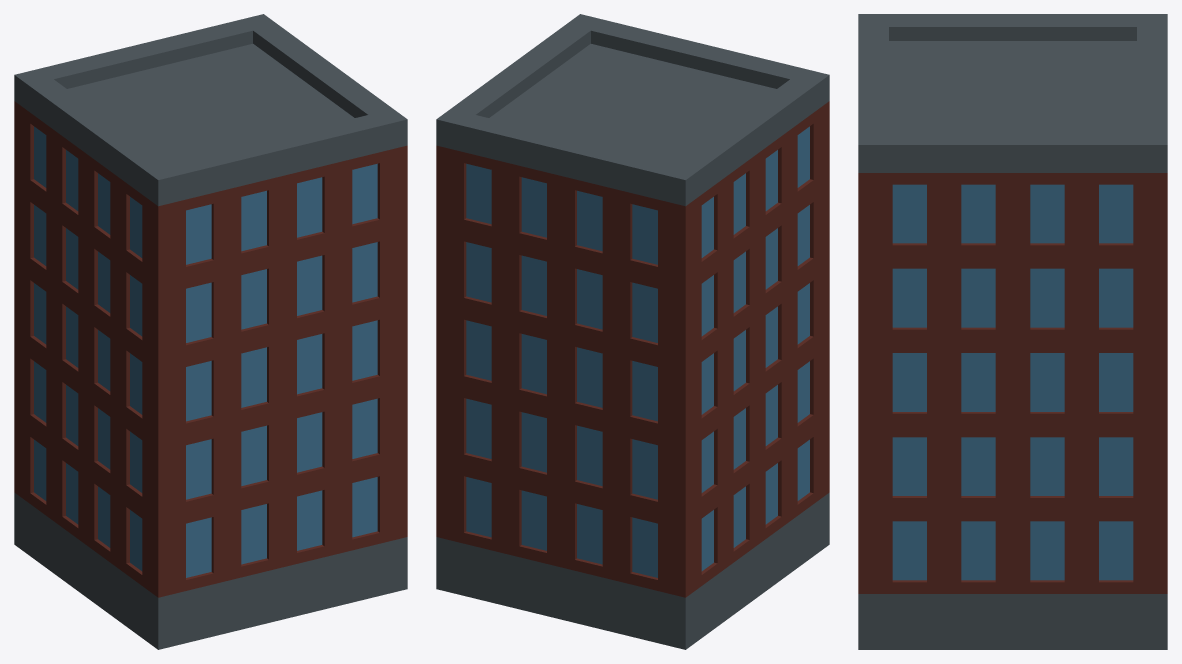
Rendered from Build_01_Mid.fbx.
The picture shows the model from 3 angles, left to right: view 1: azimuth 30°, elevation 25°; view 2: azimuth 150°, elevation 25°; view 3: azimuth 270°, elevation 25°; orthographic projection. The views are drawn at different scales.
Visible parts, largest first — view 1: Build_01_Mid; view 2: Build_01_Mid; view 3: Build_01_Mid.
Part boxes in pixels (left/top/right/bottom): Build_01_Mid: left=14, top=14, right=407, bottom=649; Build_01_Mid: left=436, top=14, right=829, bottom=649; Build_01_Mid: left=858, top=14, right=1167, bottom=649.
Size of the model in its own units: 10 by 18 by 10.
